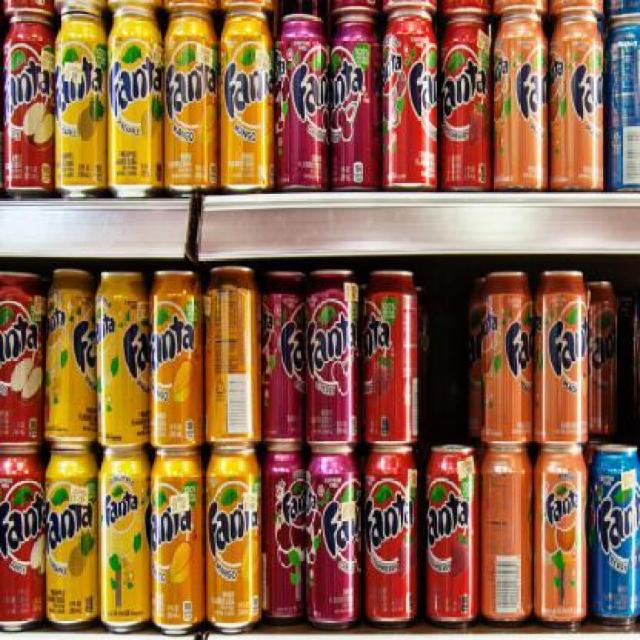Drinks: (107, 12, 164, 199), (362, 448, 420, 630), (206, 447, 262, 635), (218, 10, 274, 195), (306, 448, 362, 632), (204, 266, 261, 446), (533, 447, 589, 630), (425, 442, 480, 628), (382, 9, 438, 191), (44, 449, 99, 633), (305, 269, 361, 449), (493, 13, 549, 193), (548, 12, 604, 192), (95, 270, 151, 450), (362, 268, 418, 448), (152, 450, 206, 636), (2, 11, 55, 200), (438, 9, 493, 191), (164, 15, 219, 196), (533, 269, 589, 446), (274, 12, 329, 192), (98, 449, 151, 633), (587, 445, 640, 629), (328, 13, 382, 193), (150, 268, 204, 448), (479, 448, 533, 628), (55, 13, 107, 199), (480, 270, 534, 448), (47, 267, 96, 445), (0, 270, 46, 452), (0, 453, 45, 633), (261, 268, 305, 448), (261, 448, 305, 628)
